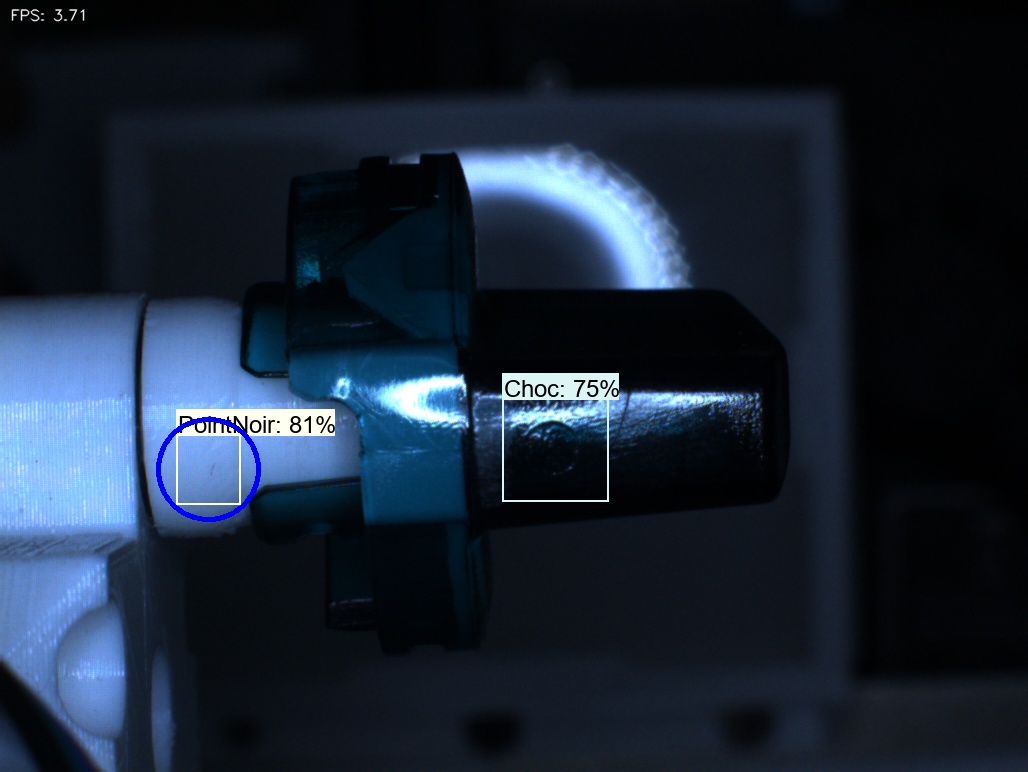DentOk: (315, 219, 397, 318)
